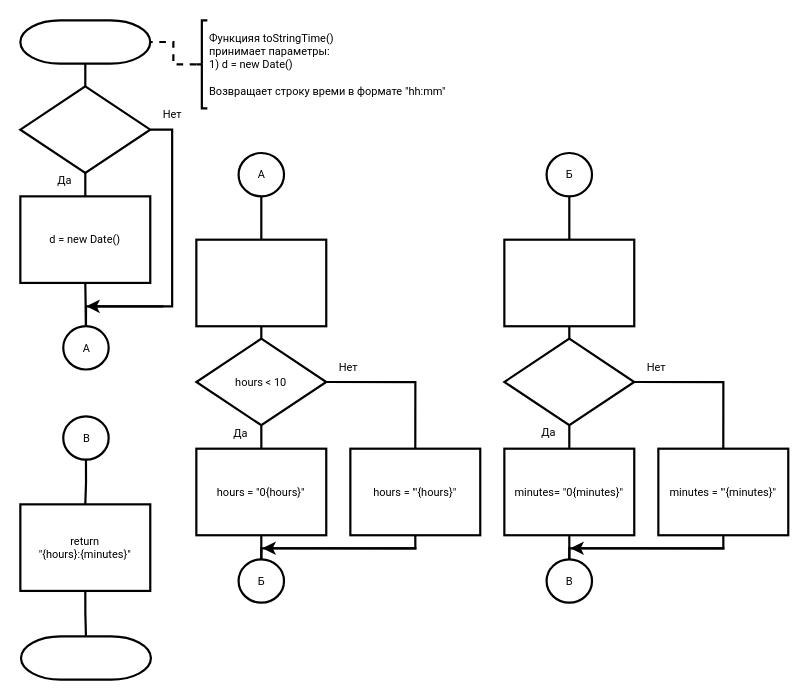
This 809x700 diagram has some shape labels left out. The centre of each missing label's shape, as x and y in pixels:
d.toString() === 'Invalid Date': pixel 85 129
hours = d.getHours(): pixel 261 282
minutes< 10: pixel 569 381
minutes= d.getMinutes(): pixel 569 282
Конец: pixel 85 657
Начало: pixel 85 41
